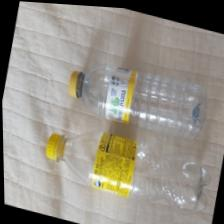plastic: (36, 113, 216, 224), (59, 49, 215, 150)
